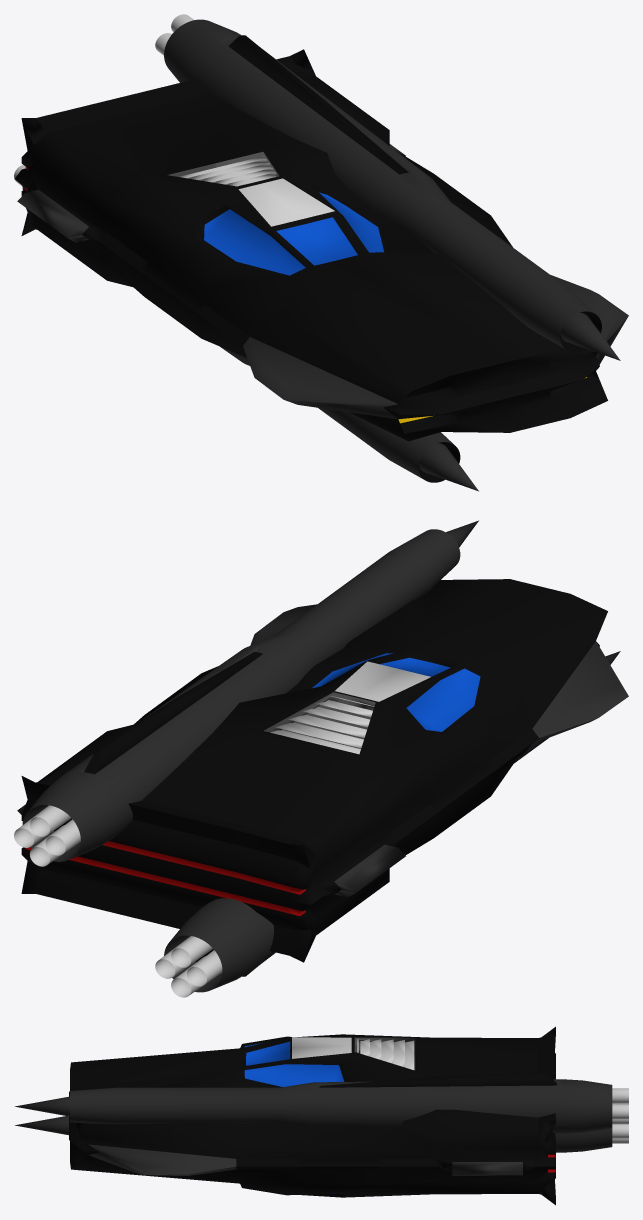
File: wector.obj
3 renders of one model, top to bottom at view 1: azimuth 30°, elevation 25°; view 2: azimuth 150°, elevation 25°; view 3: azimuth 270°, elevation 25°, orthographic. The views are drawn at different scales.
Parts seen in each view (by area): view 1: Cylinder.003; view 2: Cylinder.003; view 3: Cylinder.003.
Part boxes in pixels (x1,y1,x2,y2): Cylinder.003: [14, 14, 628, 491]; Cylinder.003: [14, 520, 628, 997]; Cylinder.003: [15, 1026, 628, 1205].
Bounding box in the file's own units: 4.89 × 2.6 × 10.78.
